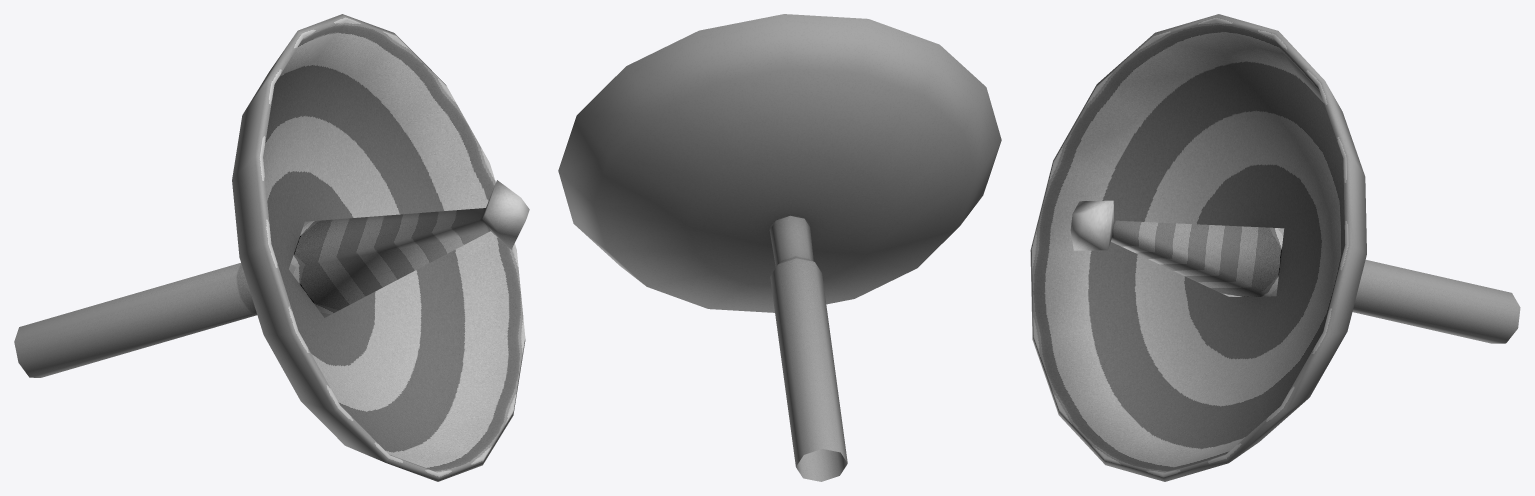
Rendered from ld36-accessories-antenna.fbx.
The picture shows the model from 3 angles, left to right: view 1: azimuth 30°, elevation 25°; view 2: azimuth 150°, elevation 25°; view 3: azimuth 270°, elevation 25°; orthographic projection. The views are drawn at different scales.
Visible parts, largest first — view 1: GameBox-Antenna; view 2: GameBox-Antenna; view 3: GameBox-Antenna.
Part boxes in pixels (left/top/right/bottom): GameBox-Antenna: left=14, top=14, right=529, bottom=481; GameBox-Antenna: left=558, top=14, right=1001, bottom=481; GameBox-Antenna: left=1030, top=14, right=1520, bottom=481.
Bounding box in the file's own units: 153 × 145 × 167.
